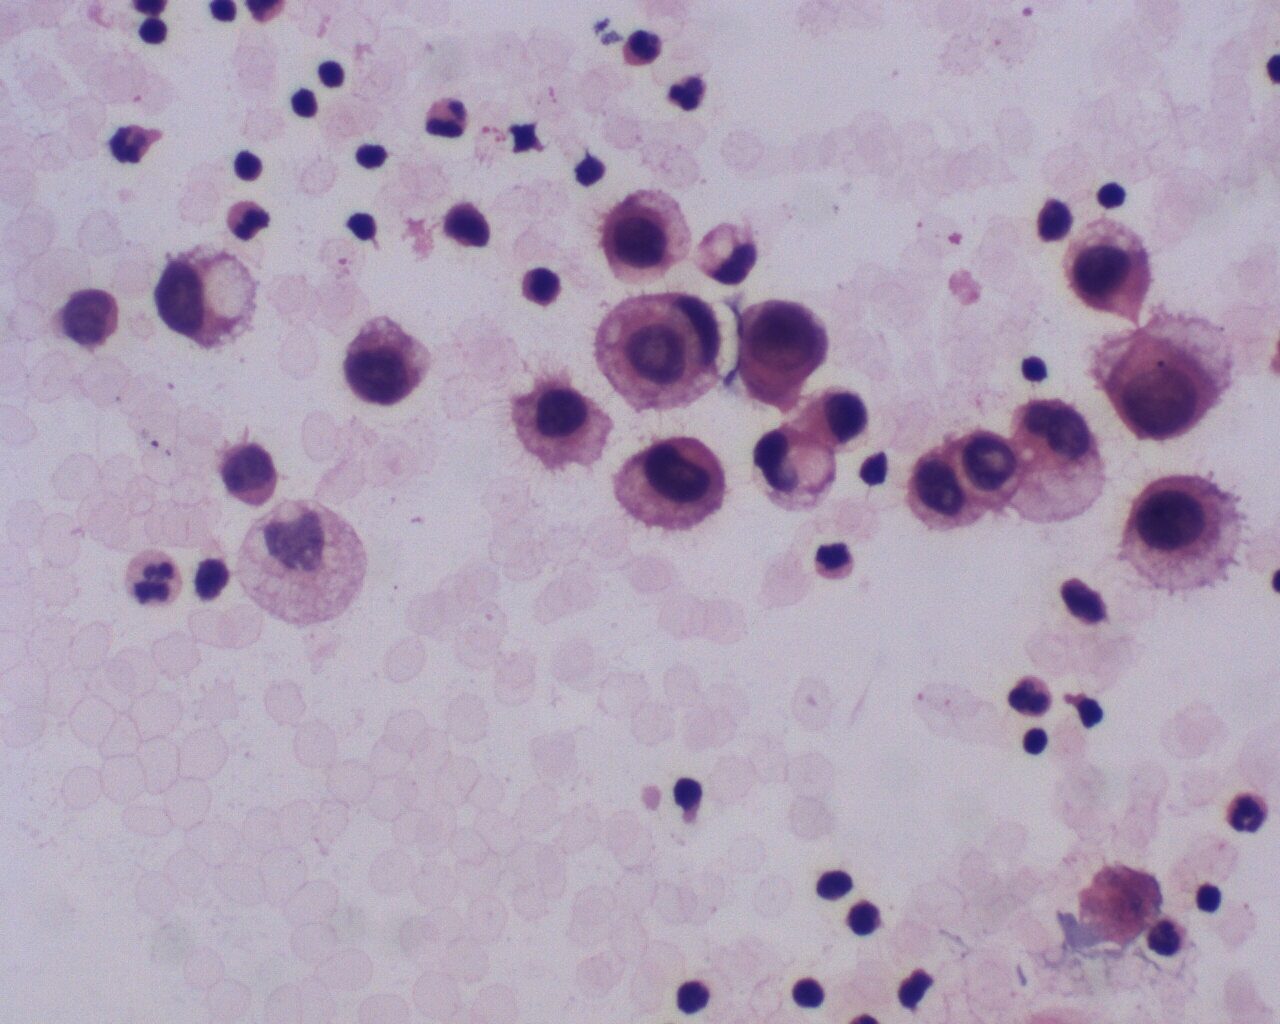ab: (1098, 321, 1232, 453), (612, 430, 727, 538), (738, 297, 835, 412), (1064, 219, 1154, 319), (340, 315, 432, 409), (945, 422, 1024, 512), (55, 283, 122, 354)
lymph: (670, 969, 721, 1021), (349, 127, 396, 178), (810, 863, 857, 906), (784, 971, 830, 1013), (131, 13, 174, 52), (316, 55, 355, 97), (666, 773, 707, 812), (1091, 176, 1128, 215), (1191, 877, 1227, 916), (1020, 723, 1058, 759)
meso: (1123, 467, 1252, 607), (595, 188, 700, 283)
neutro: (120, 546, 187, 613), (1220, 787, 1271, 838), (1007, 673, 1058, 719), (616, 24, 666, 69), (223, 197, 271, 242), (664, 70, 709, 112)
